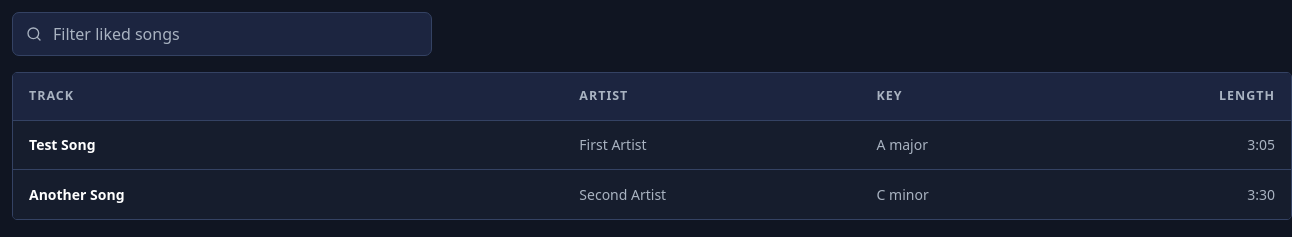
Test: filters the visible track page by song, artist, album, or key
Type "second album" into the search field labelled "Filter liked songs" at (222, 34), box 12,12 -> 432,56
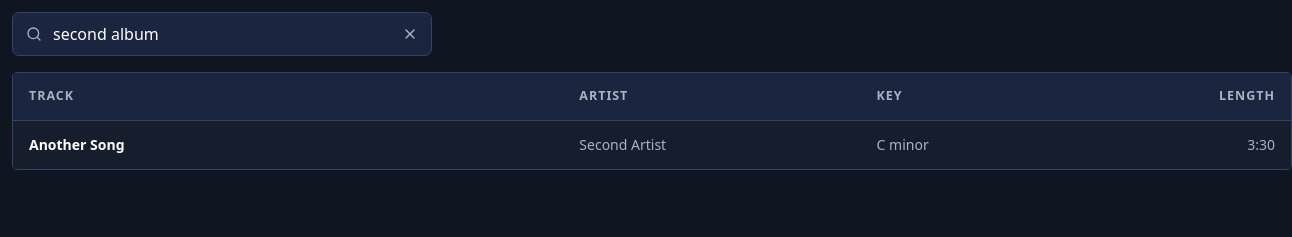
Expected: the link "Another Song" is shown, 29,135 -> 124,154
Expected: the link "Test Song" is gone
